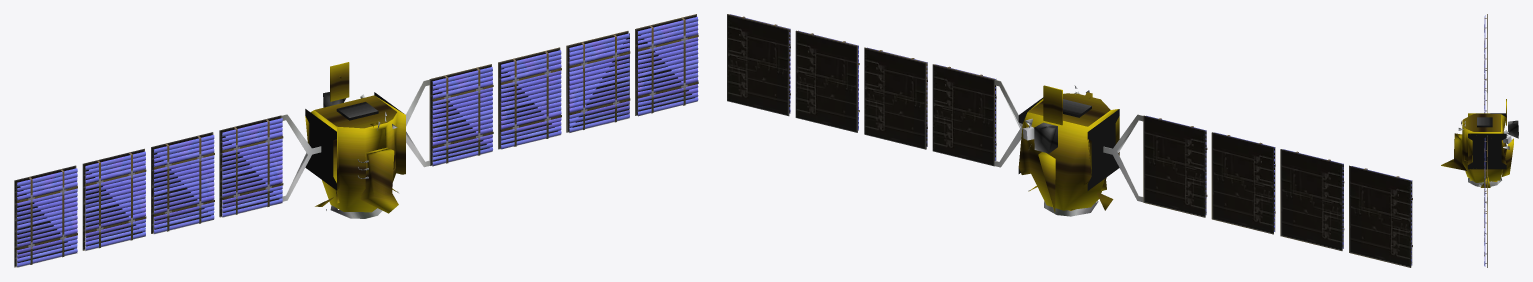
The model's file is deep-space-1.glb.
3 views of the same model, side by side, from view 1: azimuth 30°, elevation 25°; view 2: azimuth 150°, elevation 25°; view 3: azimuth 270°, elevation 25° (orthographic). The views are drawn at different scales.
Parts seen in each view (by area): view 1: shiny_panel, tex_01, foil_gold, black_krinkle, foil_silver; view 2: tex_01, foil_gold, black_krinkle, shiny_panel, foil_silver; view 3: foil_gold, black_krinkle, tex_01, shiny_panel, foil_silver.
Part boxes in pixels (box(x1,y1,x2,y2)): shiny_panel: box(17, 16, 698, 266); tex_01: box(14, 14, 698, 267); foil_gold: box(305, 62, 405, 213); black_krinkle: box(305, 92, 403, 190); foil_silver: box(323, 92, 377, 178); tex_01: box(727, 14, 1412, 267); foil_gold: box(1018, 85, 1119, 212); black_krinkle: box(1018, 97, 1119, 190); shiny_panel: box(730, 14, 1411, 265); foil_silver: box(1034, 99, 1091, 153); foil_gold: box(1441, 99, 1513, 187); black_krinkle: box(1468, 113, 1506, 169); tex_01: box(1458, 14, 1511, 267); shiny_panel: box(1484, 15, 1485, 266); foil_silver: box(1477, 117, 1518, 138).
Size of the model in its own units: 11.8 by 2.22 by 1.93.
Materials: 5 (4 with a texture image).
